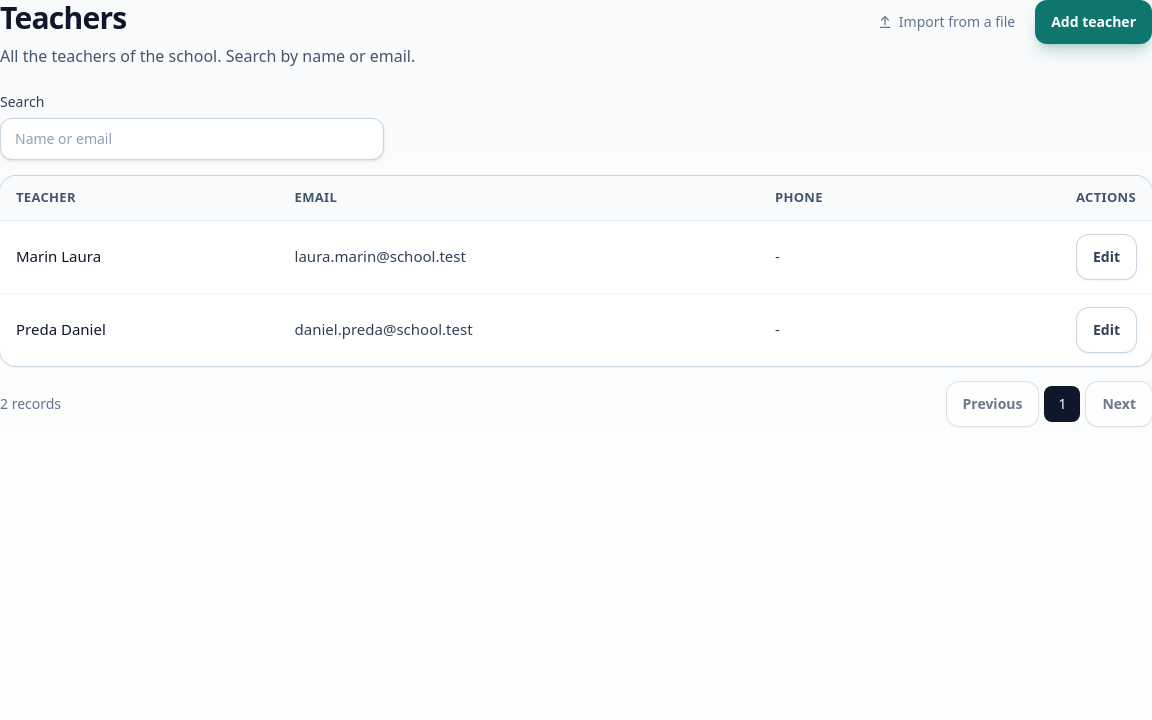
Test: AdminTeachersPage › edits a teacher without asking for a password
This screenshot has width=1152, height=720.
Click the button "Edit" in the row of "Marin Laura" at x=1106, y=256, box [1077,234,1136,278]
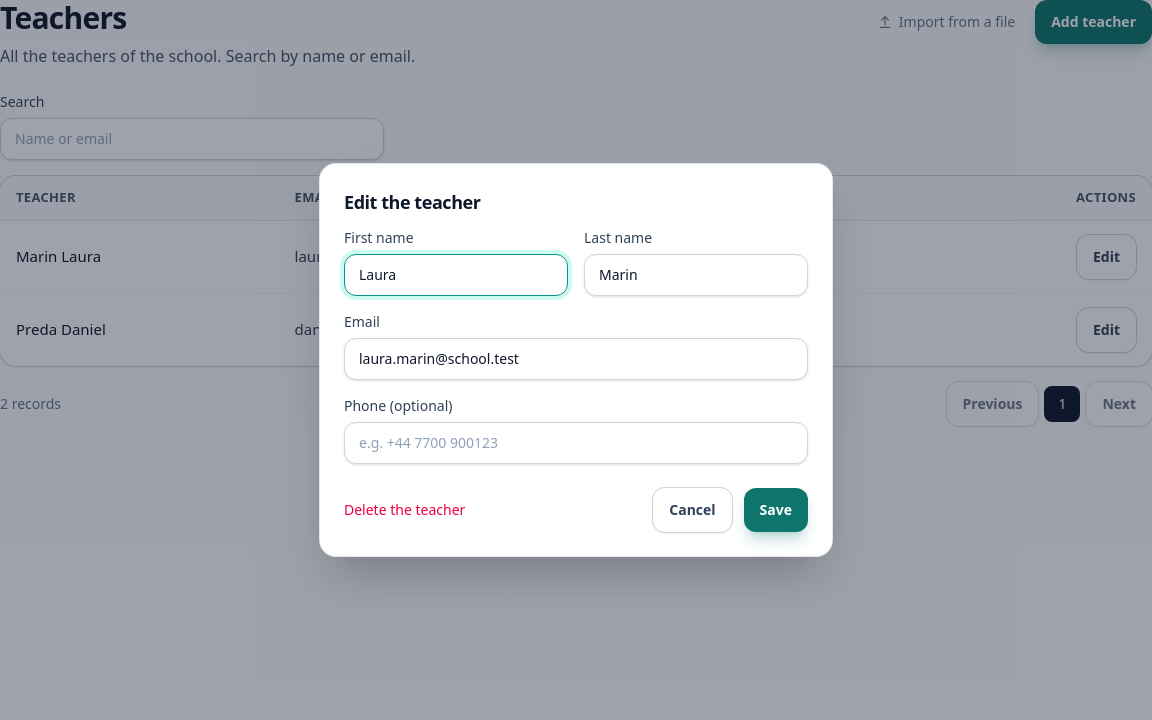
Replace the text in the field labelled "Last name" with "Marinescu" at x=696, y=275, box [584,254,808,296]
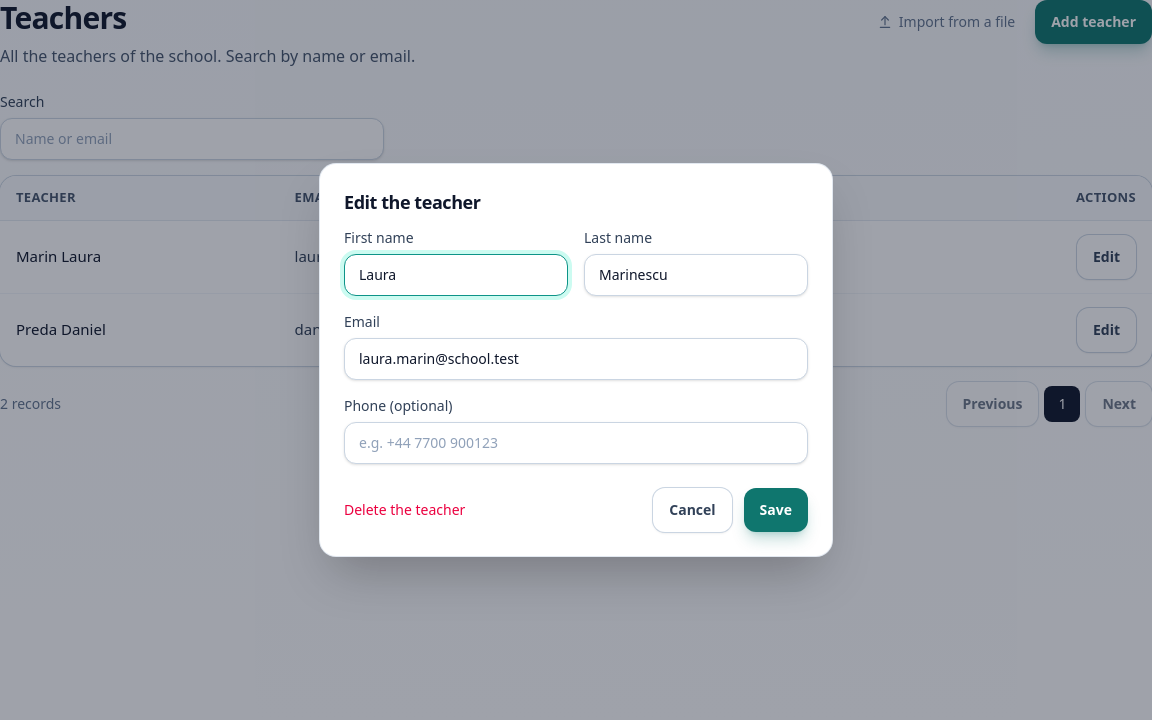
Click the button "Save" at x=776, y=510, box [744,488,808,532]
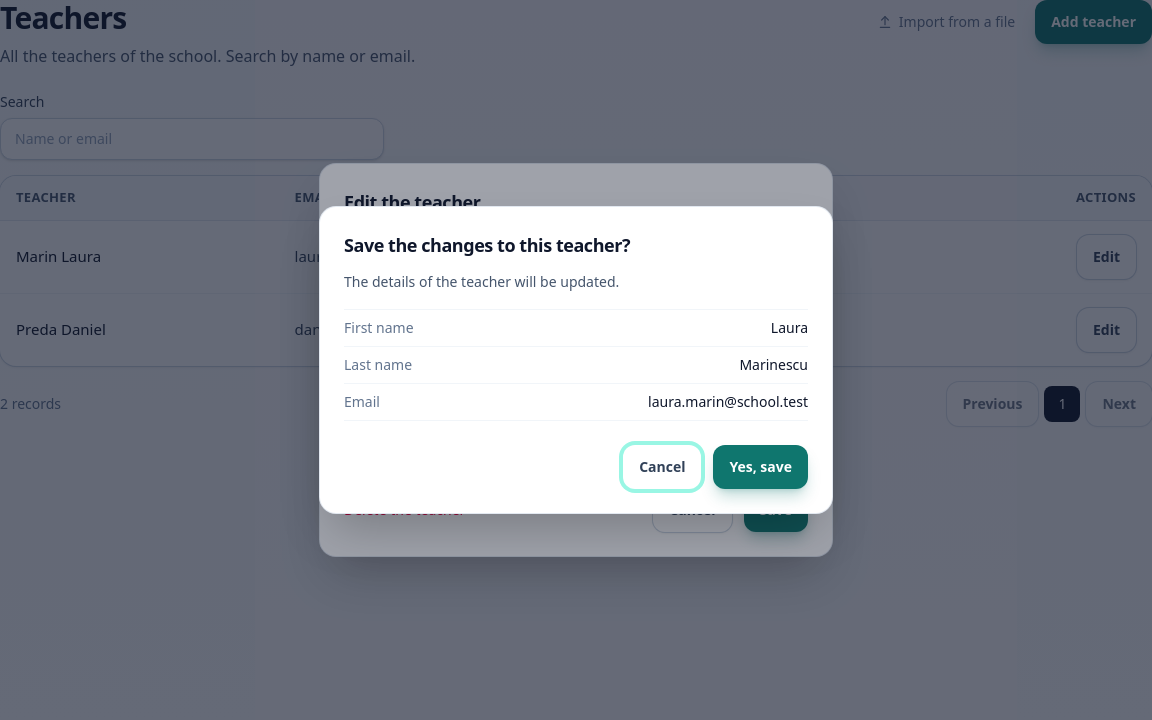
Click the button "Yes, save" at x=761, y=467, box [713,445,808,489]
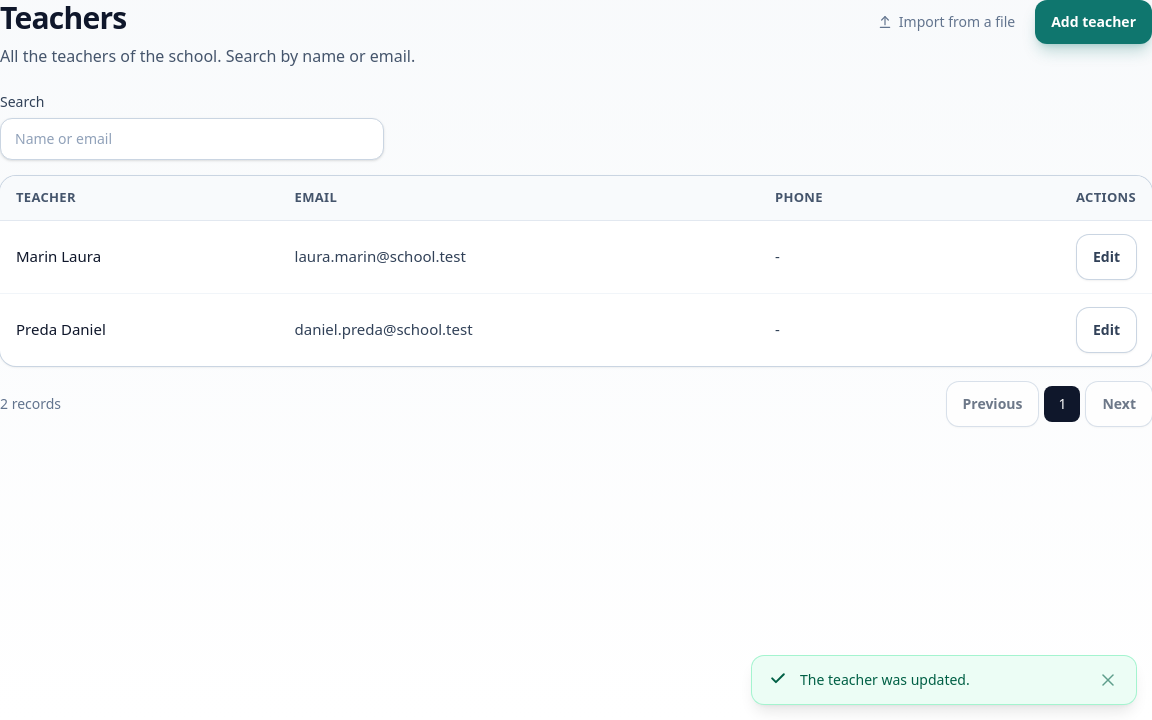
Check: the text "The teacher was updated." is shown, box [800,670,970,689]
